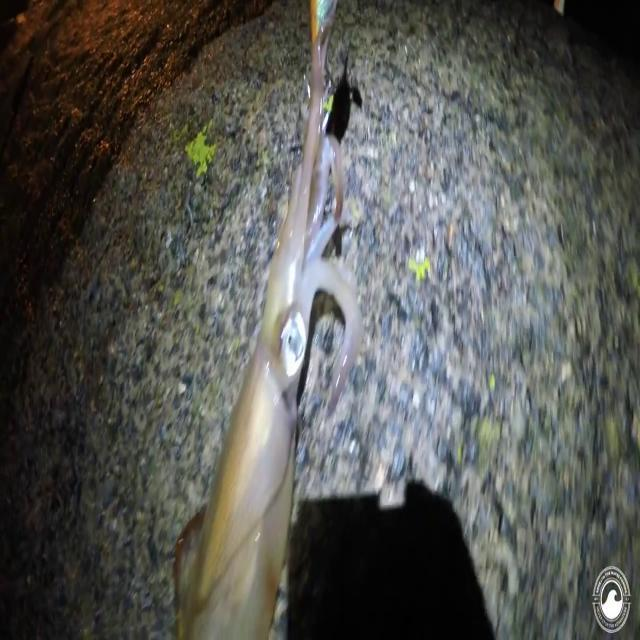squid: (176, 36, 362, 640)
